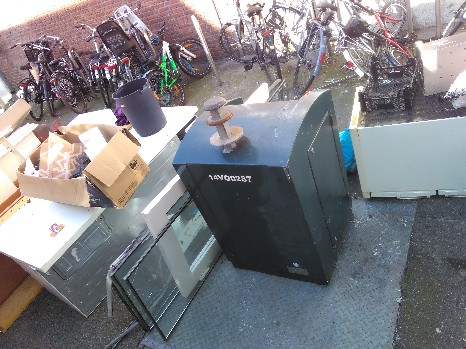Container: (197, 105, 351, 283)
Papier: (100, 189, 237, 337), (30, 131, 130, 199)
Plastic: (11, 205, 123, 313), (80, 100, 180, 138)
Rest: (361, 79, 466, 206)
Voertuig: (99, 156, 186, 253), (310, 2, 415, 59), (26, 51, 123, 112), (220, 15, 304, 79), (129, 36, 198, 99), (91, 33, 143, 99)
